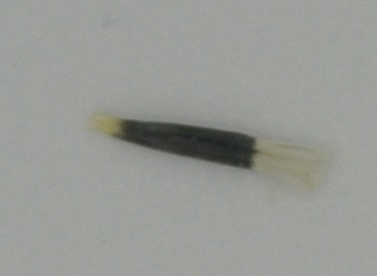เมล็ดดีติดกัน: (90, 112, 332, 190)
